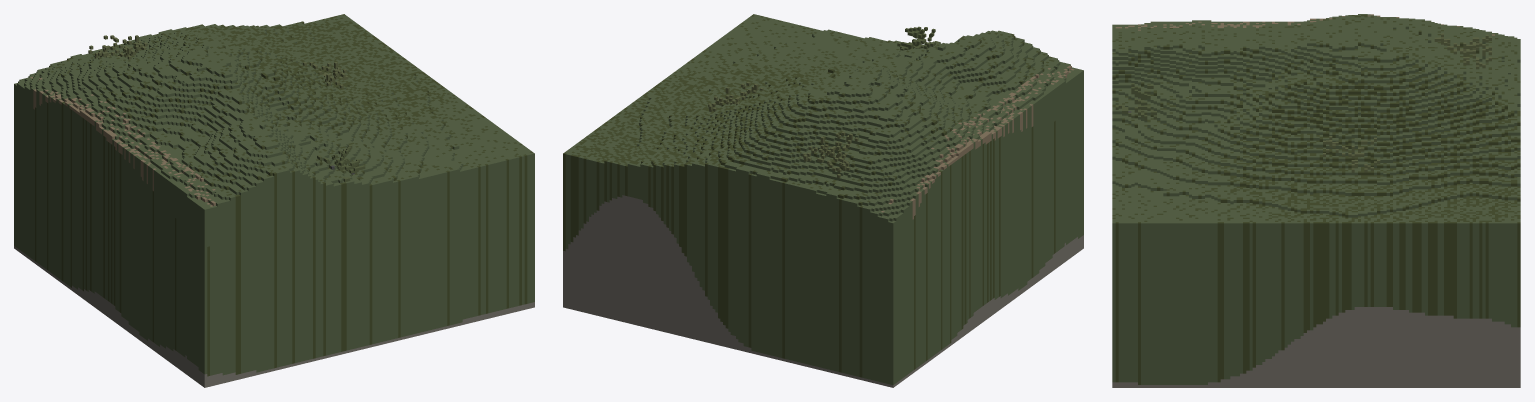
File: Combined Desert(3)-6-tile 6.obj
3 renders of one model, left to right at view 1: azimuth 30°, elevation 25°; view 2: azimuth 150°, elevation 25°; view 3: azimuth 270°, elevation 25°, orthographic. The views are drawn at different scales.
Visible parts, largest first — view 1: tile 6; view 2: tile 6; view 3: tile 6.
Part boxes in pixels (box(x1,y1,x2,y2)): tile 6: box(14, 14, 534, 387); tile 6: box(563, 14, 1083, 387); tile 6: box(1112, 14, 1520, 387).
Size of the model in its own units: 12.8 by 8.1 by 12.8.
1 material, 1 textured.
